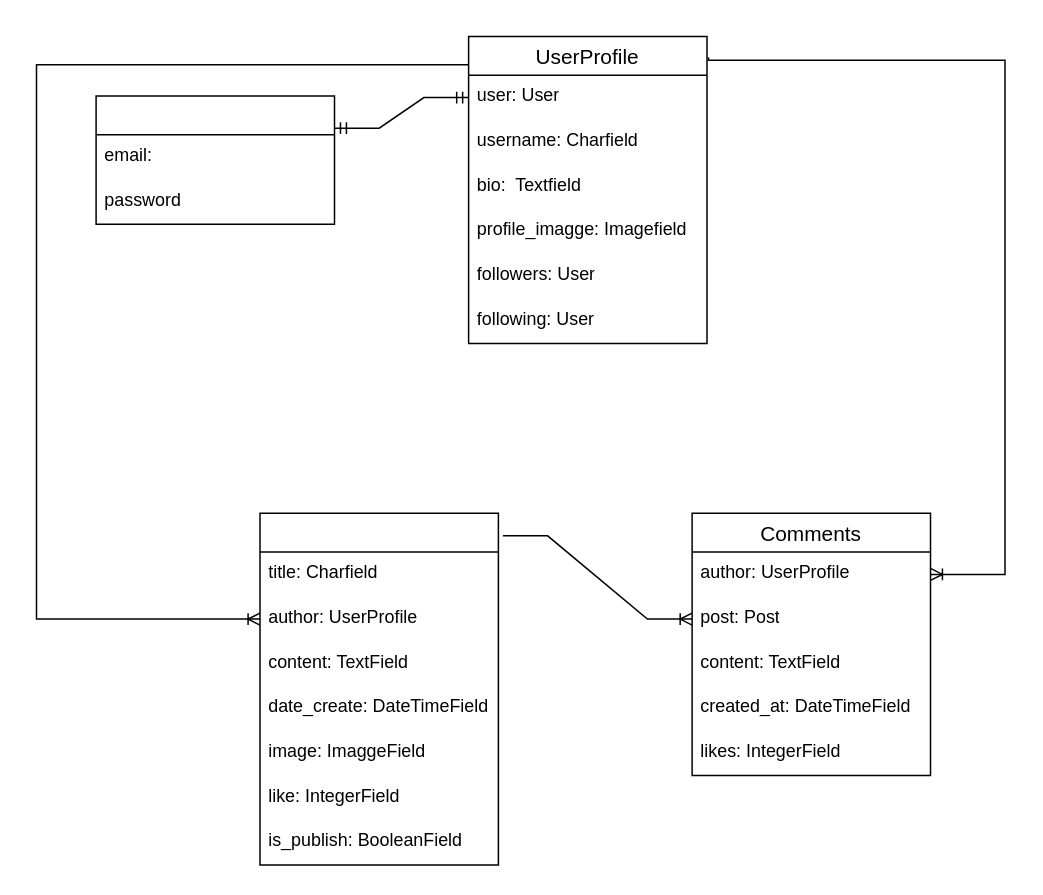
The diagram is 1043 pixels wide and 895 high, and some of its shapes have lost their labels. Each missing label, with the box of its shape:
Post: (259, 512, 498, 865)
User(abstract user): (95, 95, 335, 224)
